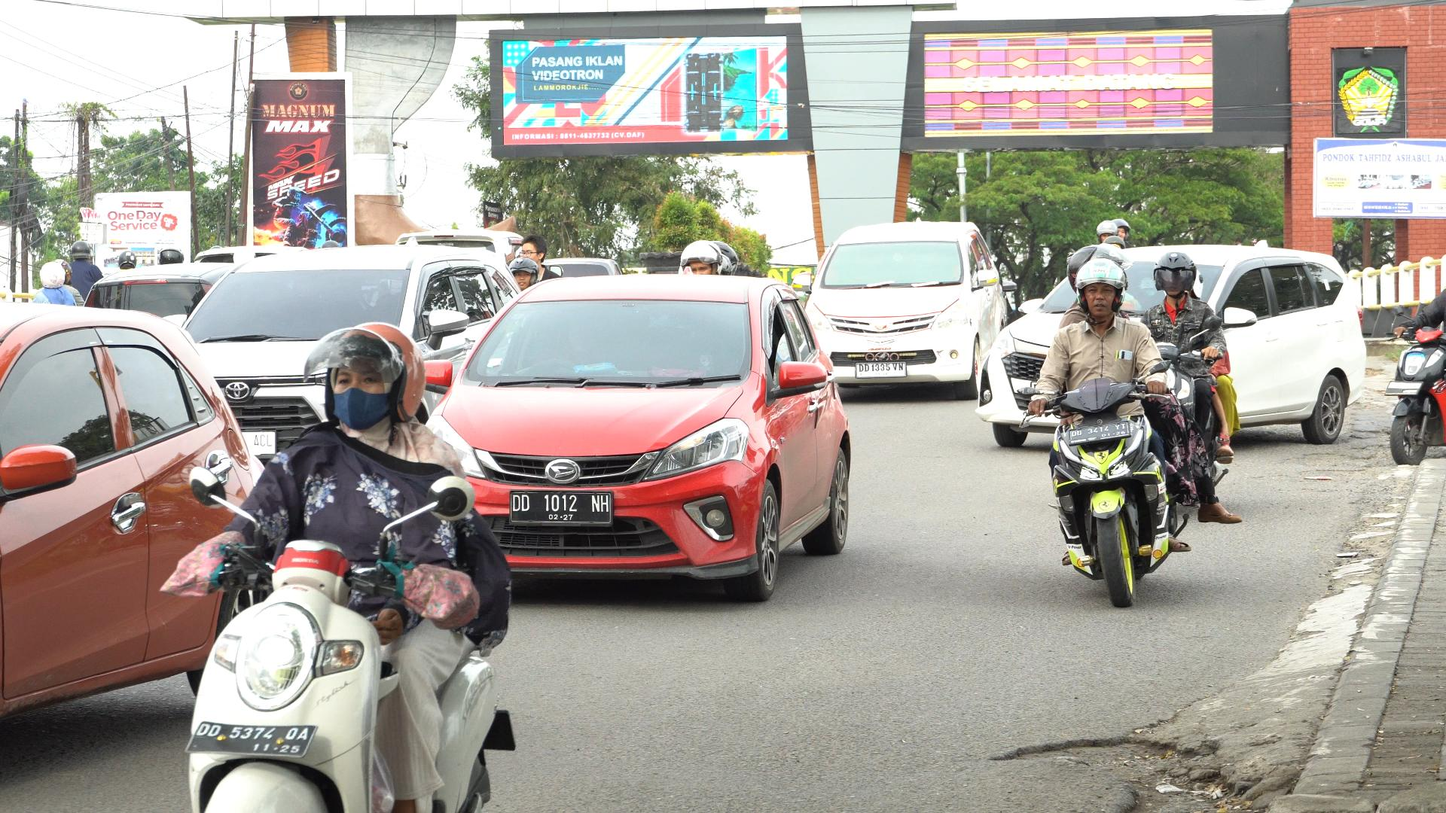number-plate: (188, 714, 315, 758)
